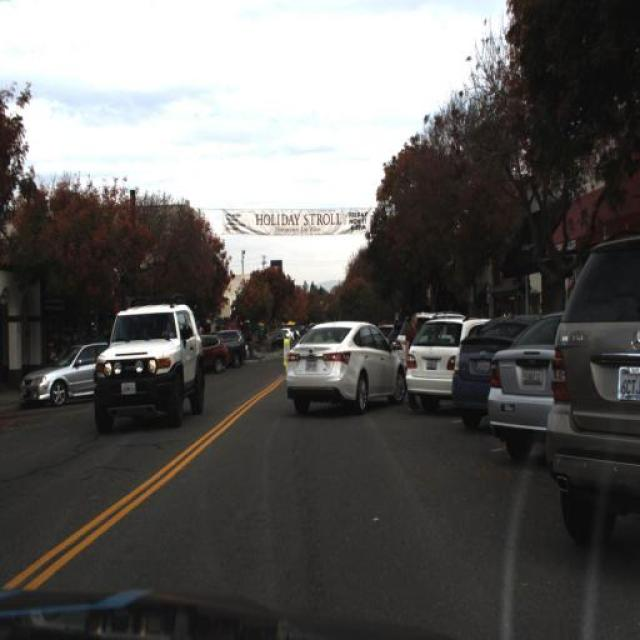car: (544, 232, 640, 550), (90, 294, 210, 438), (279, 314, 409, 410), (446, 307, 539, 434), (487, 303, 557, 462), (454, 310, 528, 428), (404, 312, 494, 402), (402, 310, 476, 416), (20, 338, 130, 408), (199, 331, 229, 367), (222, 329, 244, 365)
trafficLight: (402, 306, 422, 404)
